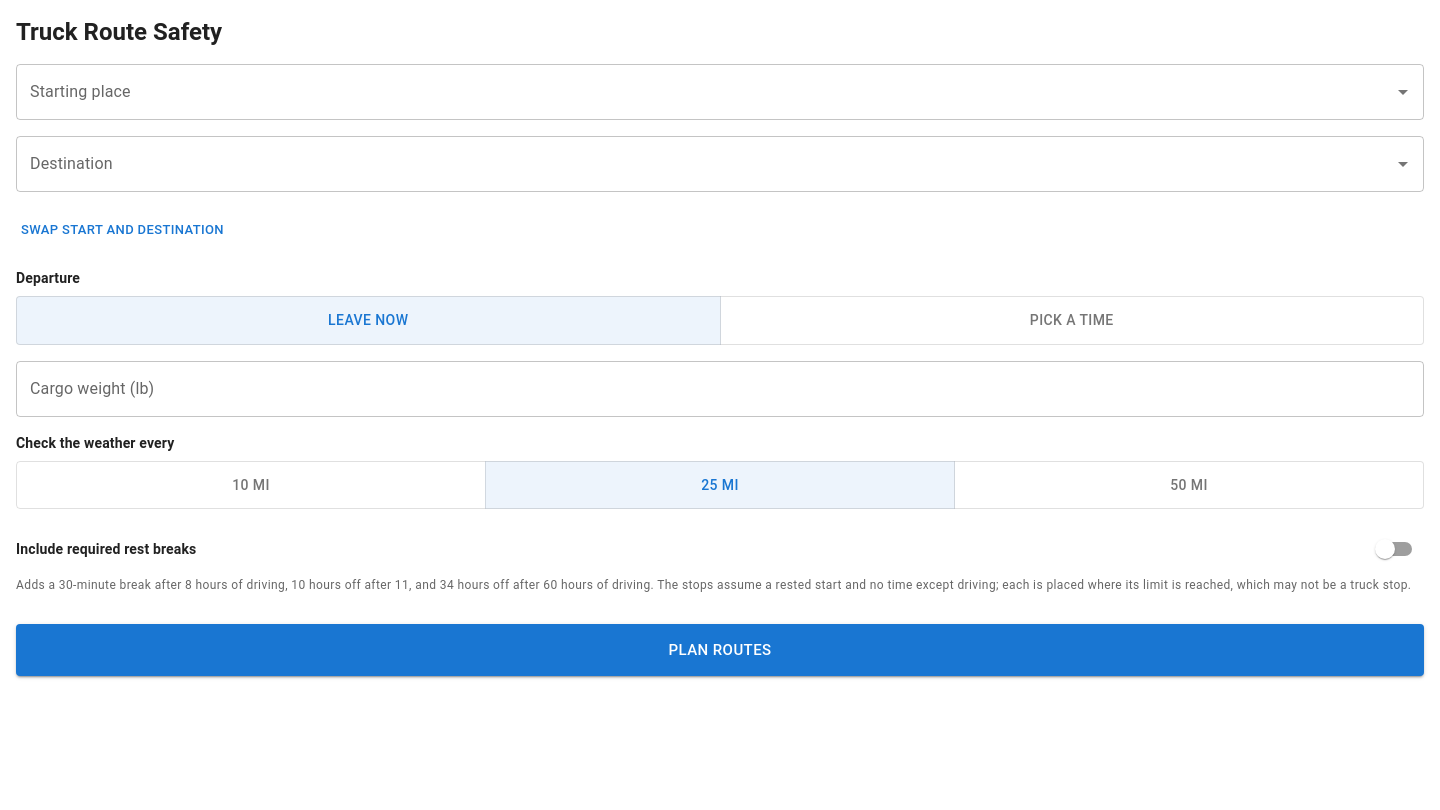
Test: the cargo weight starts empty and is required: nothing is requested without it
expect the field labelled "Cargo weight (lb)" is empty: met, box [16, 360, 1424, 416]
Click the button "Plan routes" at (720, 650), box [16, 624, 1424, 676]
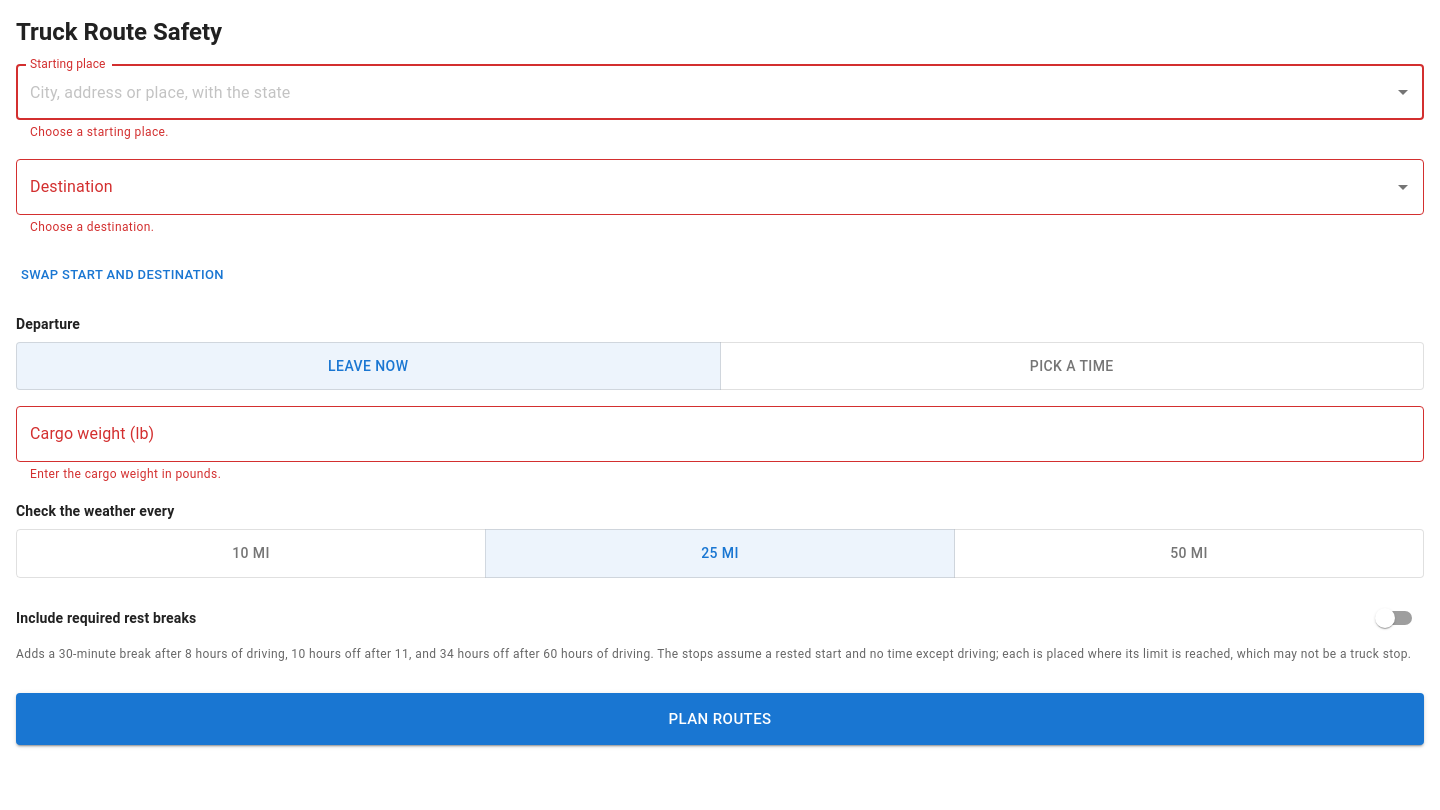
expect the text "Enter the cargo weight in pounds." is shown: met, box [30, 467, 221, 481]
